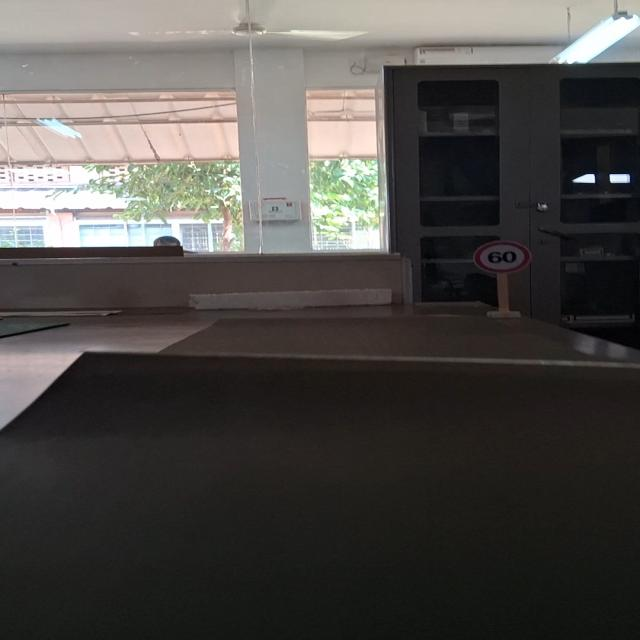Speed60: (470, 239, 533, 274)
